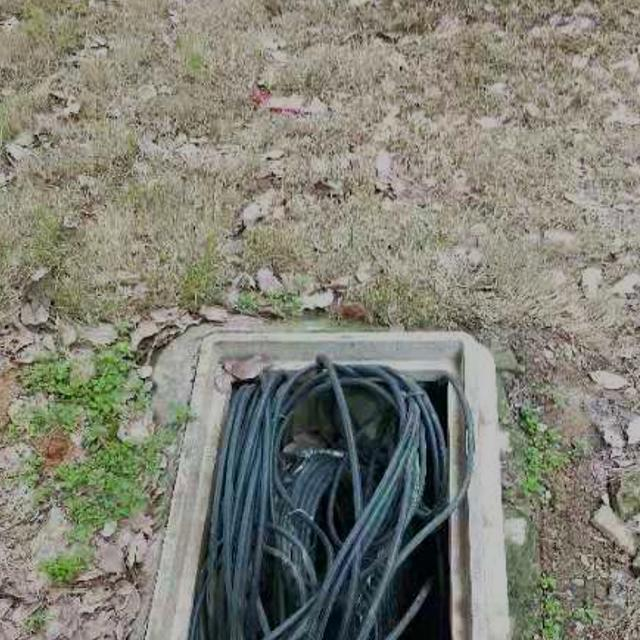lose: (112, 291, 538, 640)
